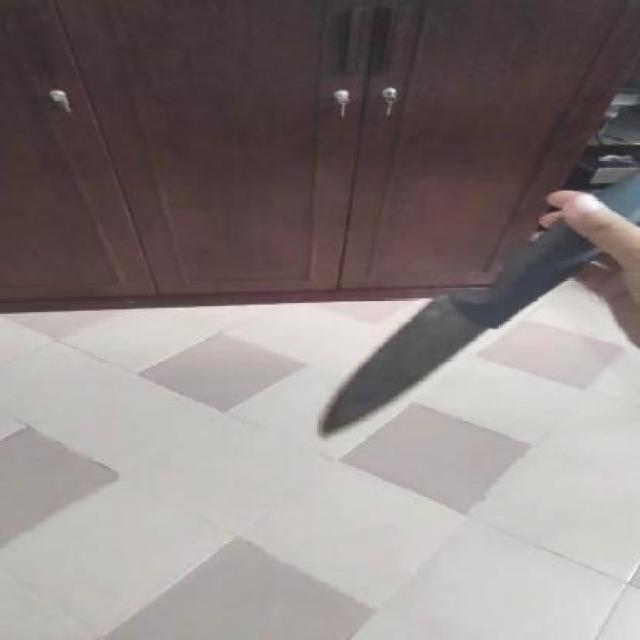knife: (296, 271, 507, 460)
